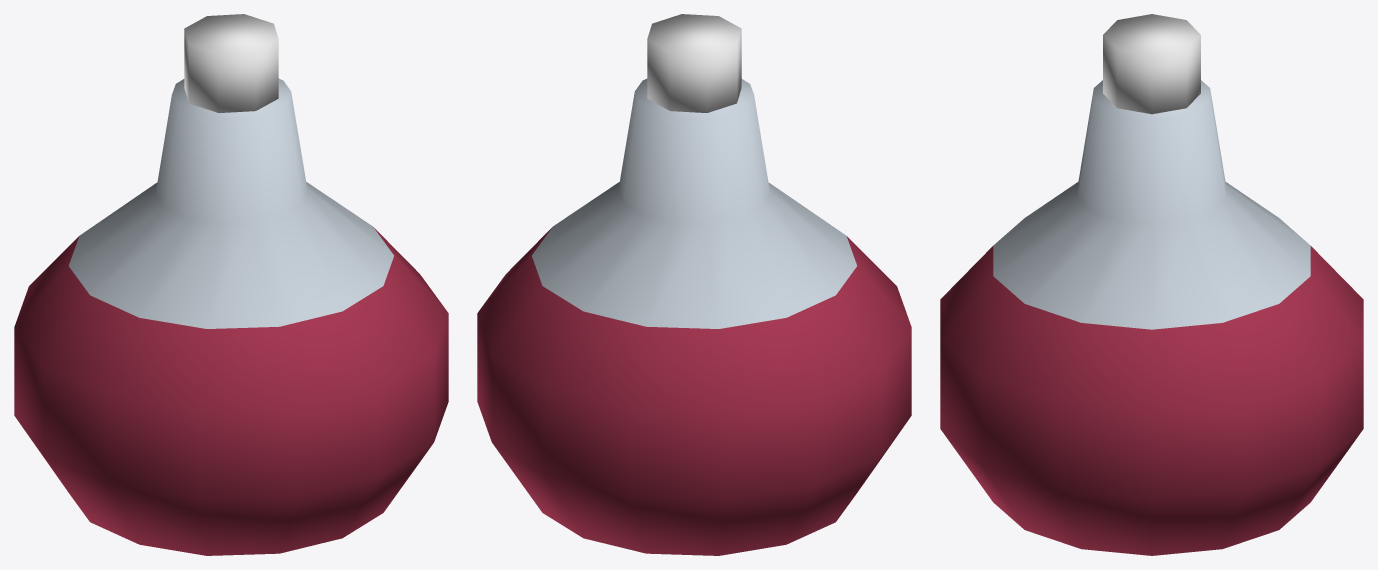
The model's file is obsidian_skin_potion.glb.
The picture shows the model from 3 angles, left to right: view 1: azimuth 30°, elevation 25°; view 2: azimuth 150°, elevation 25°; view 3: azimuth 270°, elevation 25°; orthographic projection.
Visible parts, largest first — view 1: obsidian_skin_potion_v0; view 2: obsidian_skin_potion_v0; view 3: obsidian_skin_potion_v0.
Part boxes in pixels (x1,y1,x2,y2): obsidian_skin_potion_v0: (14,14,448,555); obsidian_skin_potion_v0: (477,14,911,555); obsidian_skin_potion_v0: (940,14,1363,555).
Size of the model in its own units: 0.24 by 0.276 by 0.234.
